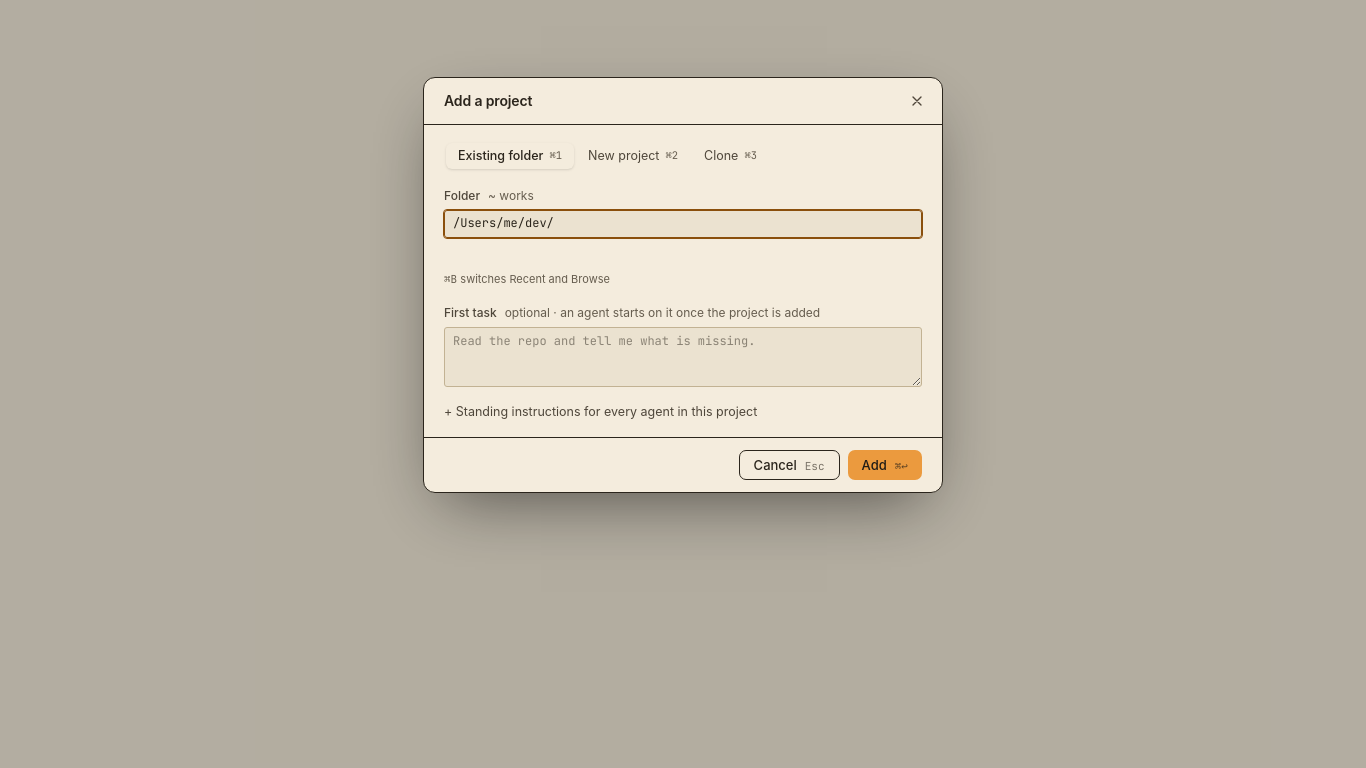
adding a project › names the clone folder after the repository until edited
The image size is (1366, 768).
Click the tab "Clone ⌘3".
click(731, 156)  # box [692,143,769,169]
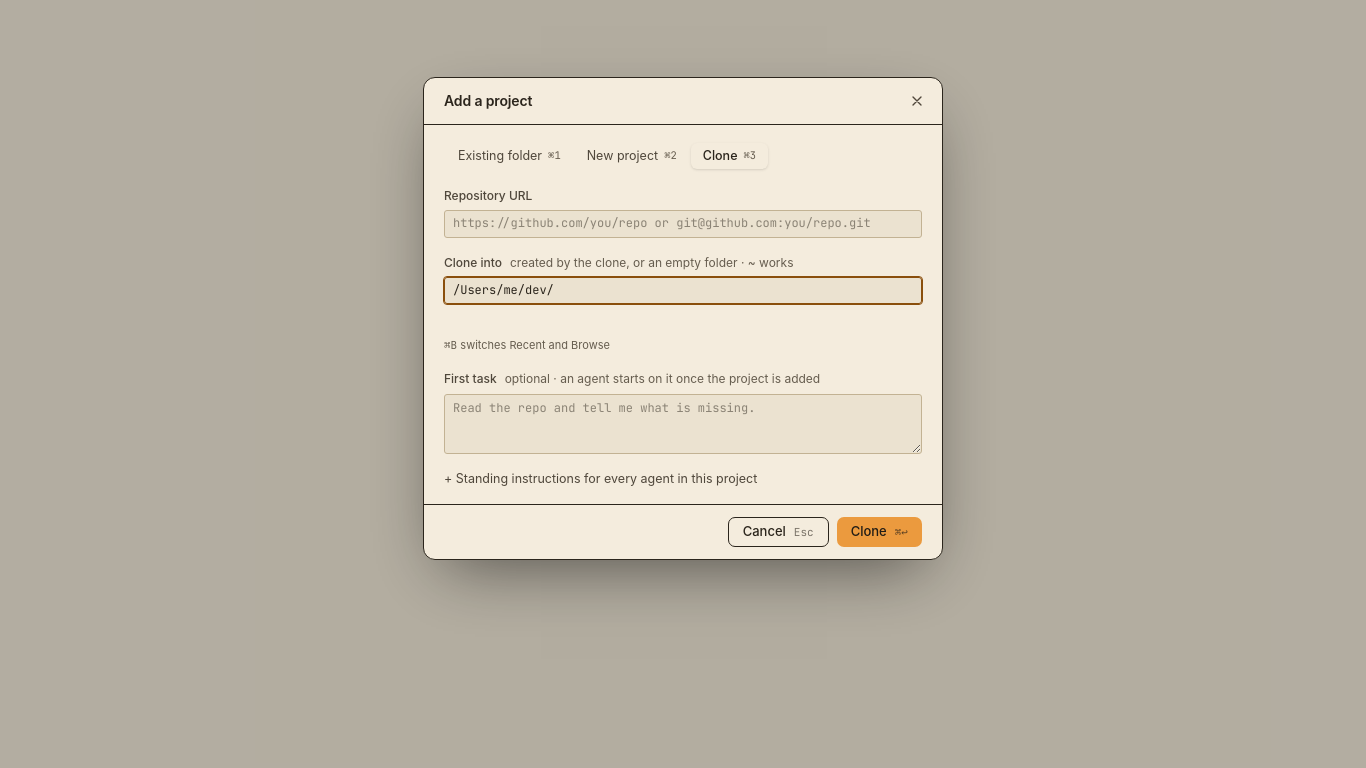
Type "git@github.com:donmiro/rateguard.git" into the field with placeholder "https://github.com/you/repo or git@github.com:you/repo.git".
click(683, 224); type("git@github.com:donmiro/rateguard.git")  # box [444,210,922,238]
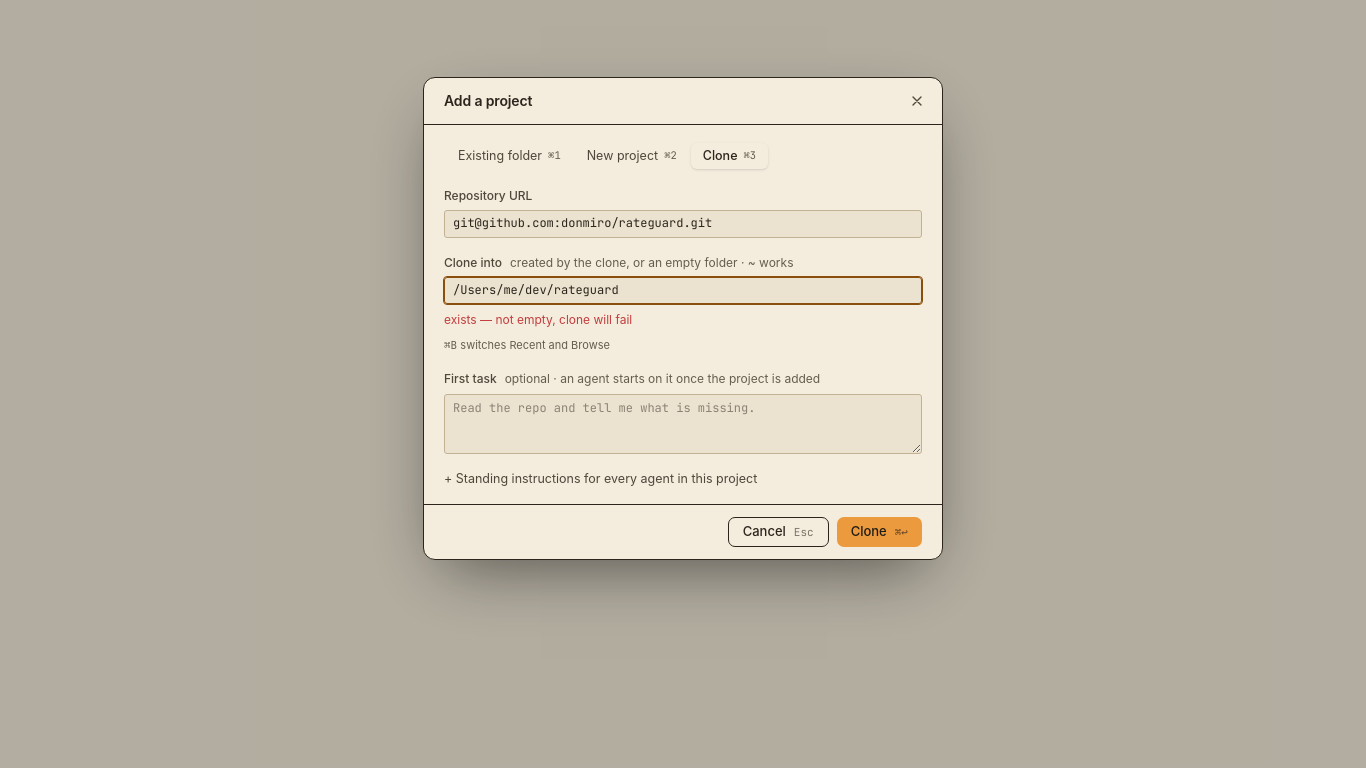
Expected: the field showing "/Users/me/dev/rateguard" is shown, [444,277,922,304]
